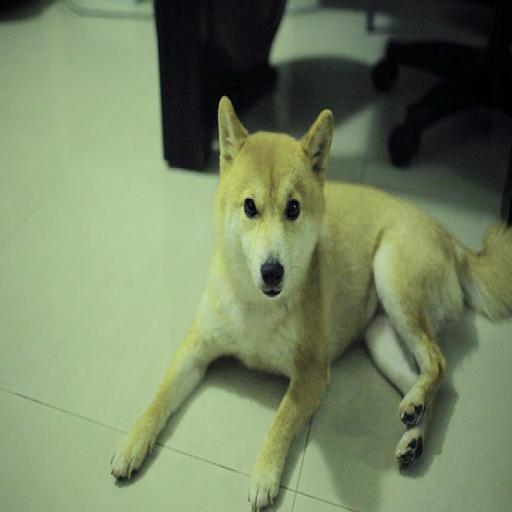dog_face: (216, 105, 326, 288)
